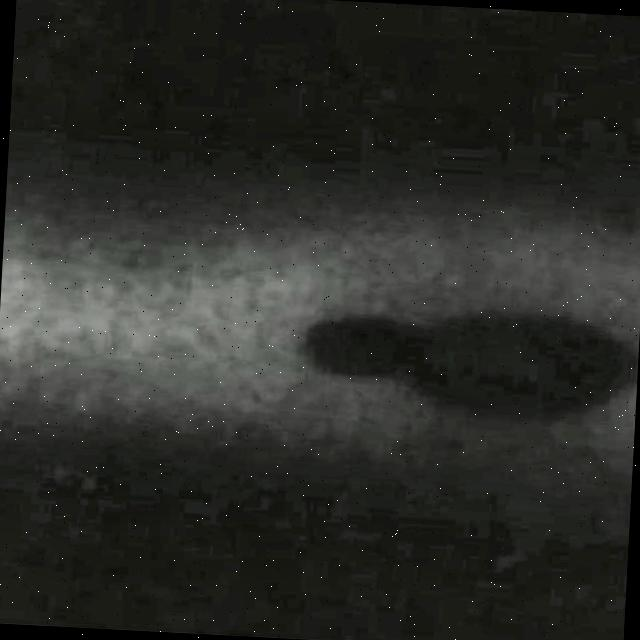Slag: (281, 277, 640, 435)
